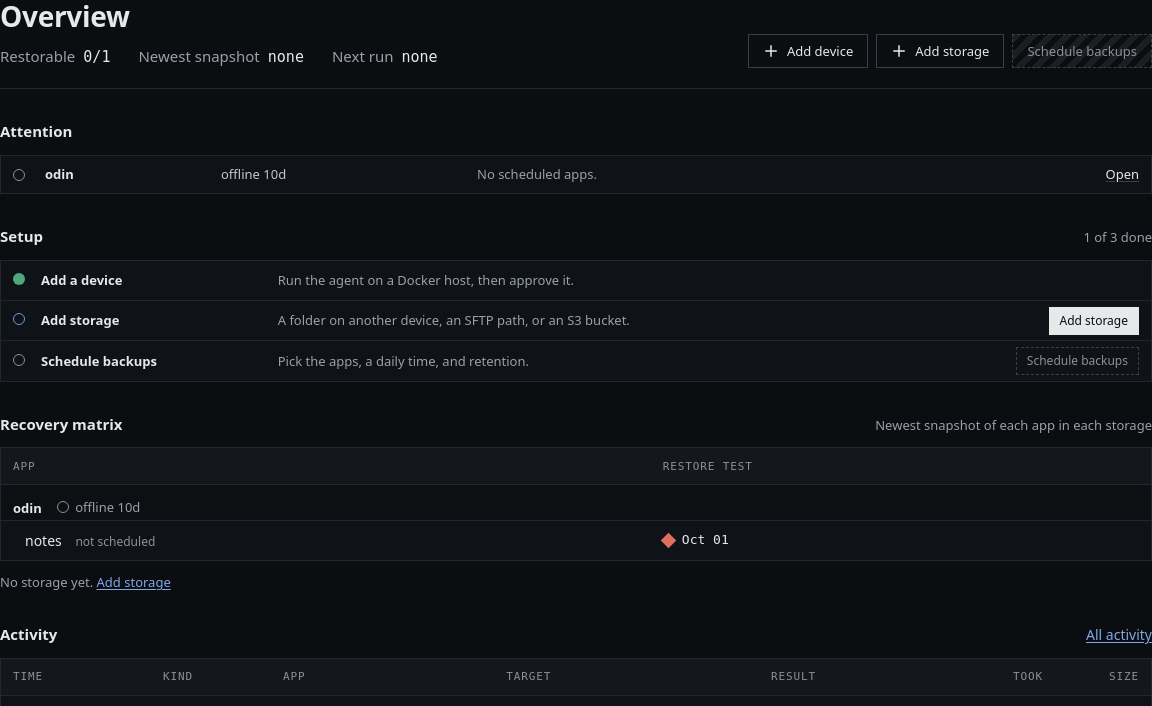
Scenario: shows the setup steps as rows with one action for the next step
The image size is (1152, 706).
Expected: the text "1 of 3 done" is shown, [1083,228,1151,247]
Step 1. Click the button "Add storage" below "1 of 3 done" → (1094, 321), box [1048,307,1139,335]
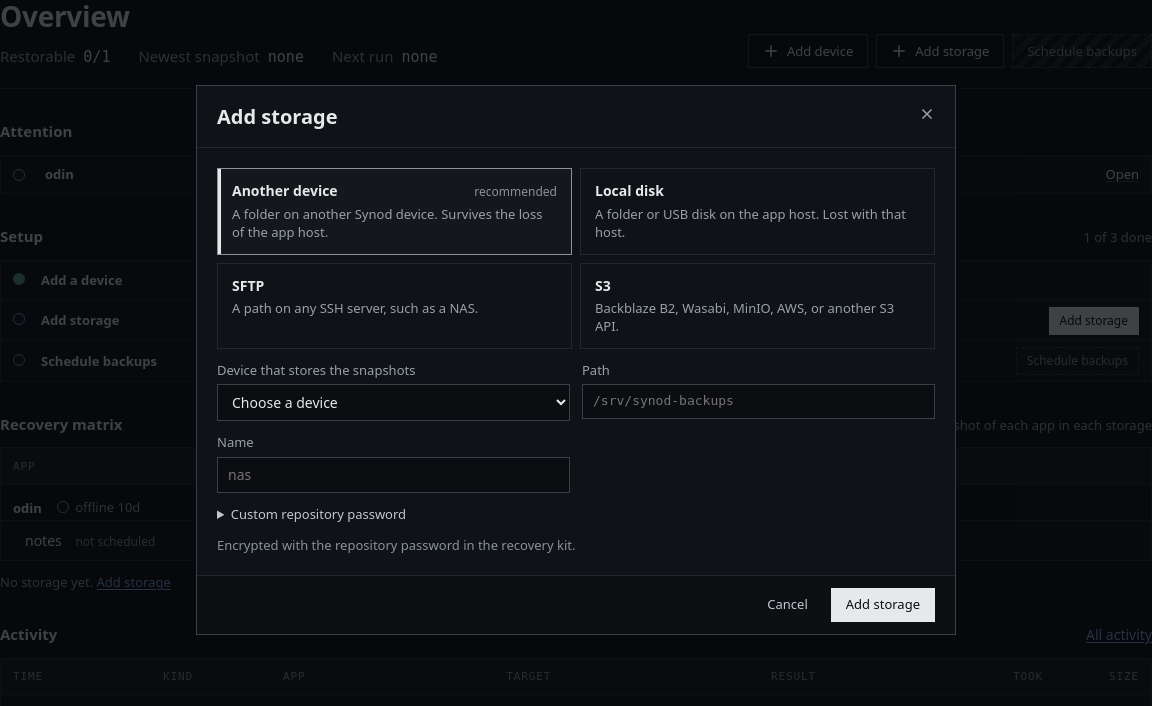
Expected: the dialog "Add storage" is shown, [196,85,956,634]
